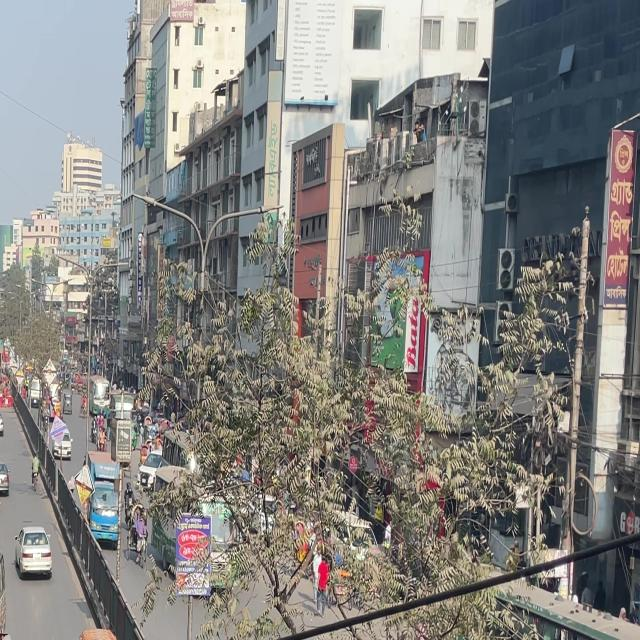bus: (0, 542, 6, 640), (0, 631, 29, 640)
car: (16, 523, 54, 582), (48, 411, 76, 470), (0, 416, 7, 436)
rickshaw: (72, 611, 142, 640)
van: (86, 470, 122, 544)
